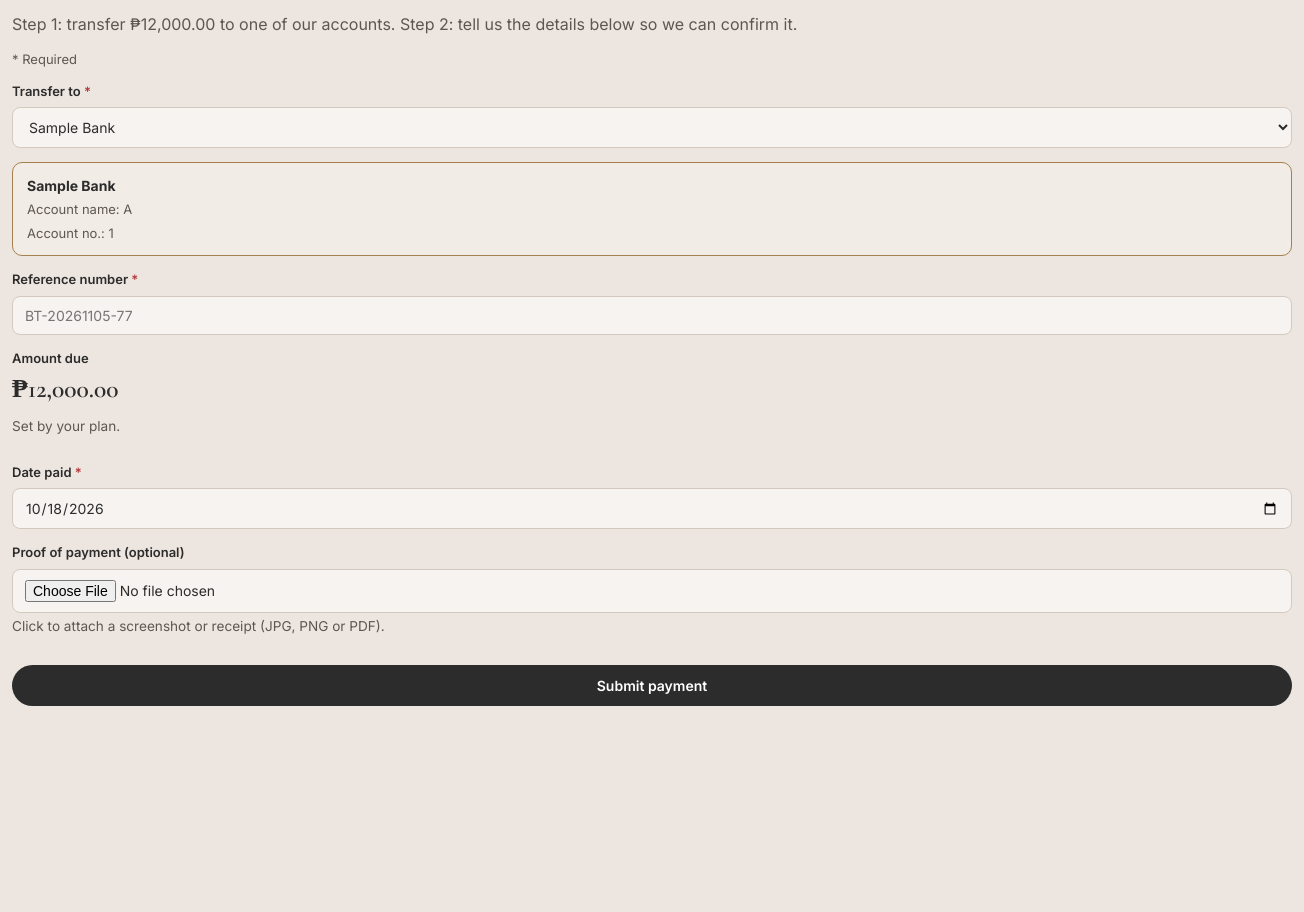
Scenario: ManualPaymentForm › shows the server 409 message "Plan is cancelled"
Type "BT-9" into the field labelled "Reference number" at {"x": 652, "y": 315}, box [12,296,1292,334]
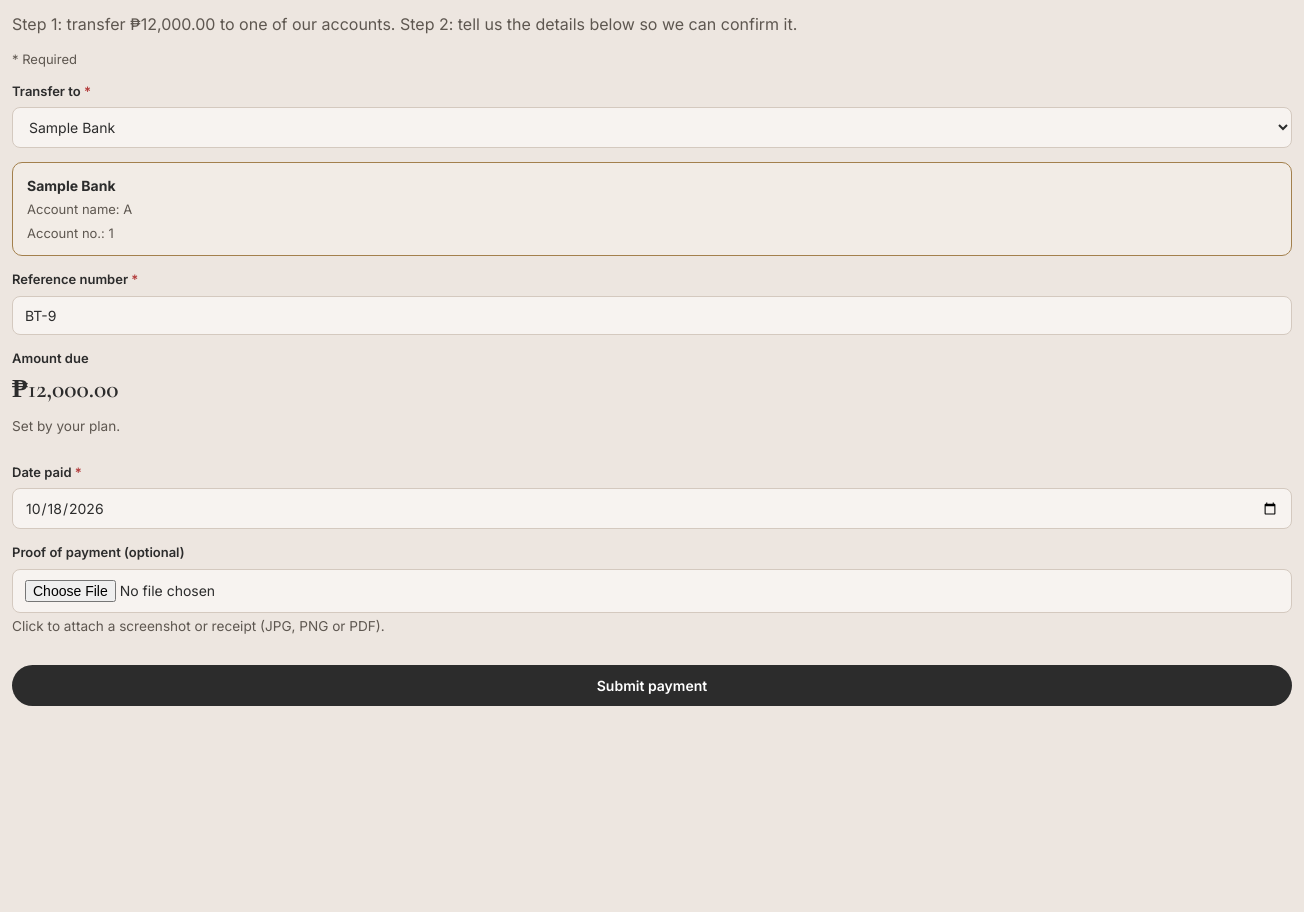
Click the button "Submit payment" at {"x": 652, "y": 685}, box [12,665,1292,706]
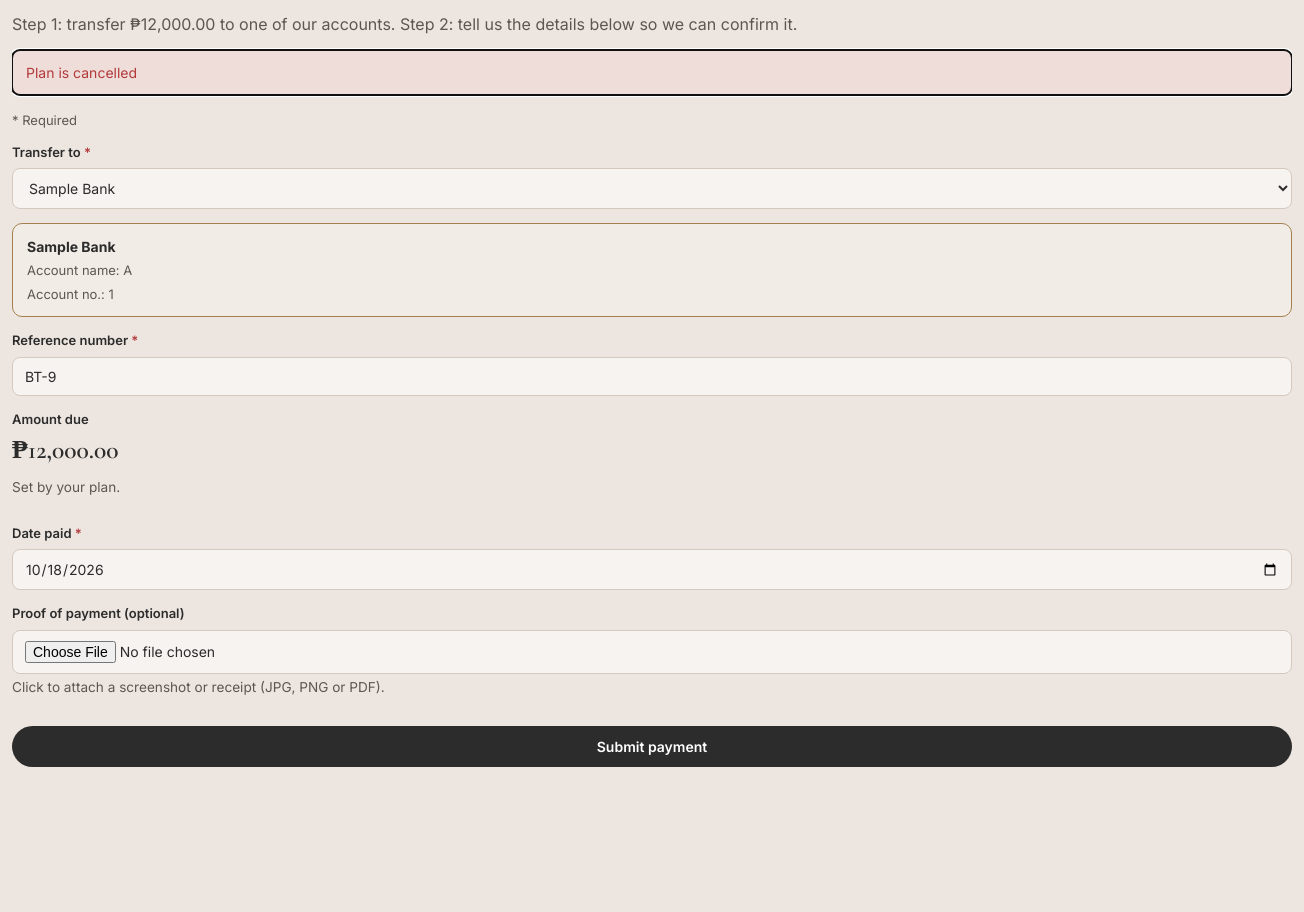
Expected: the message reads "Plan is cancelled", [26,64,137,81]
